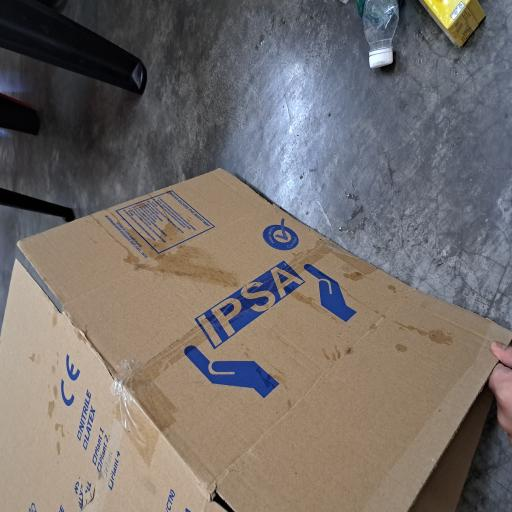cardboard: (0, 0, 256, 512)
plastic bottle: (332, 476, 384, 512)
plastic bottle cap: (333, 489, 348, 512)
